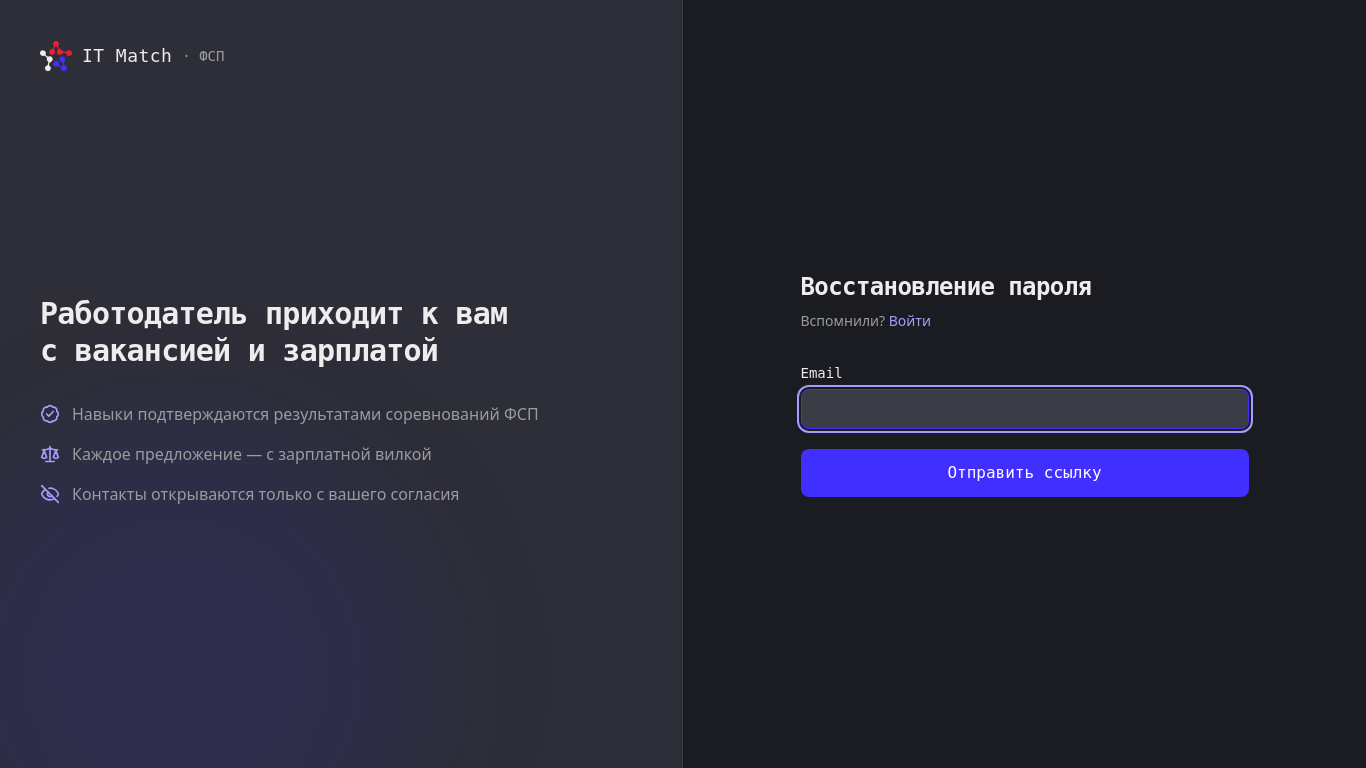
Test case: password recovery › answers the same way for any address
The width and height of the screenshot is (1366, 768).
Type "who@example.org" into the field labelled "Email" at (1024, 409), box [800,389,1248,429]
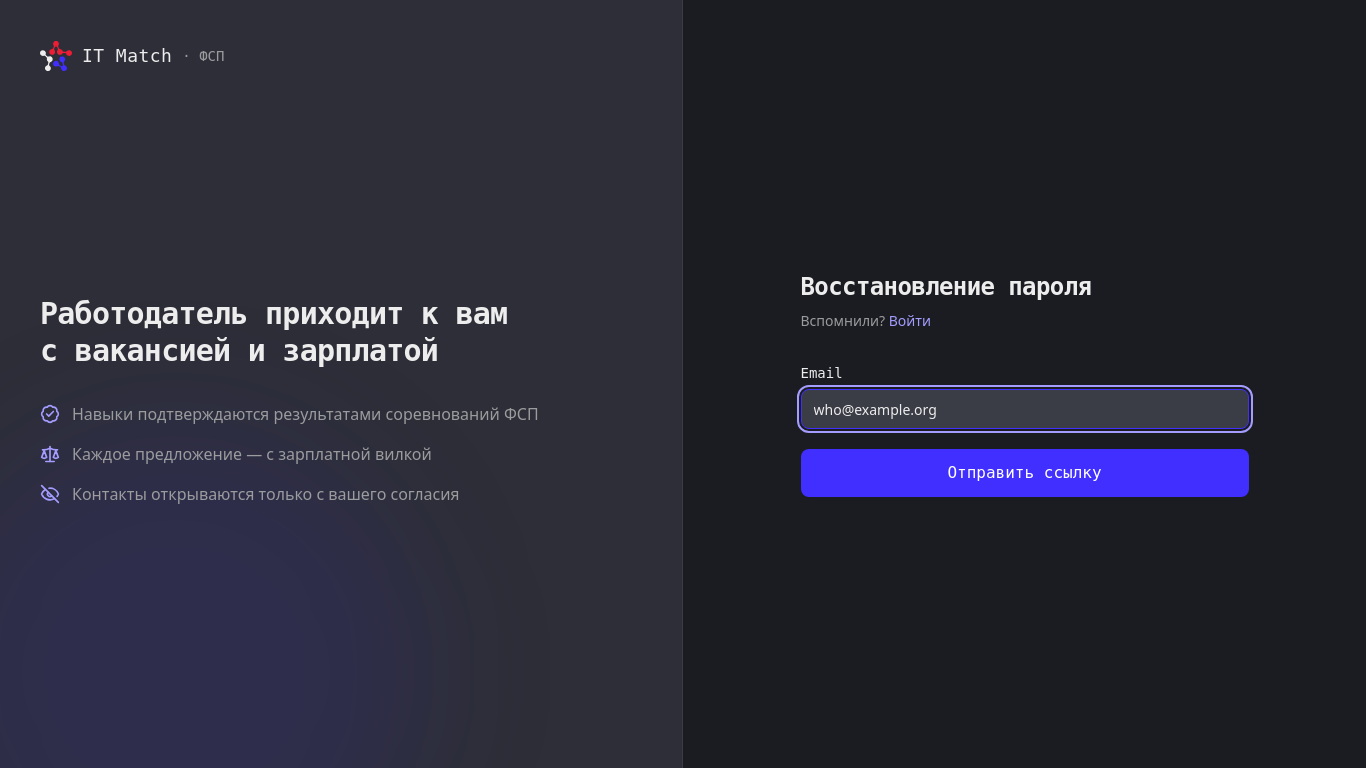
Click the button "Отправить ссылку" at (1024, 473), box [800,449,1248,497]
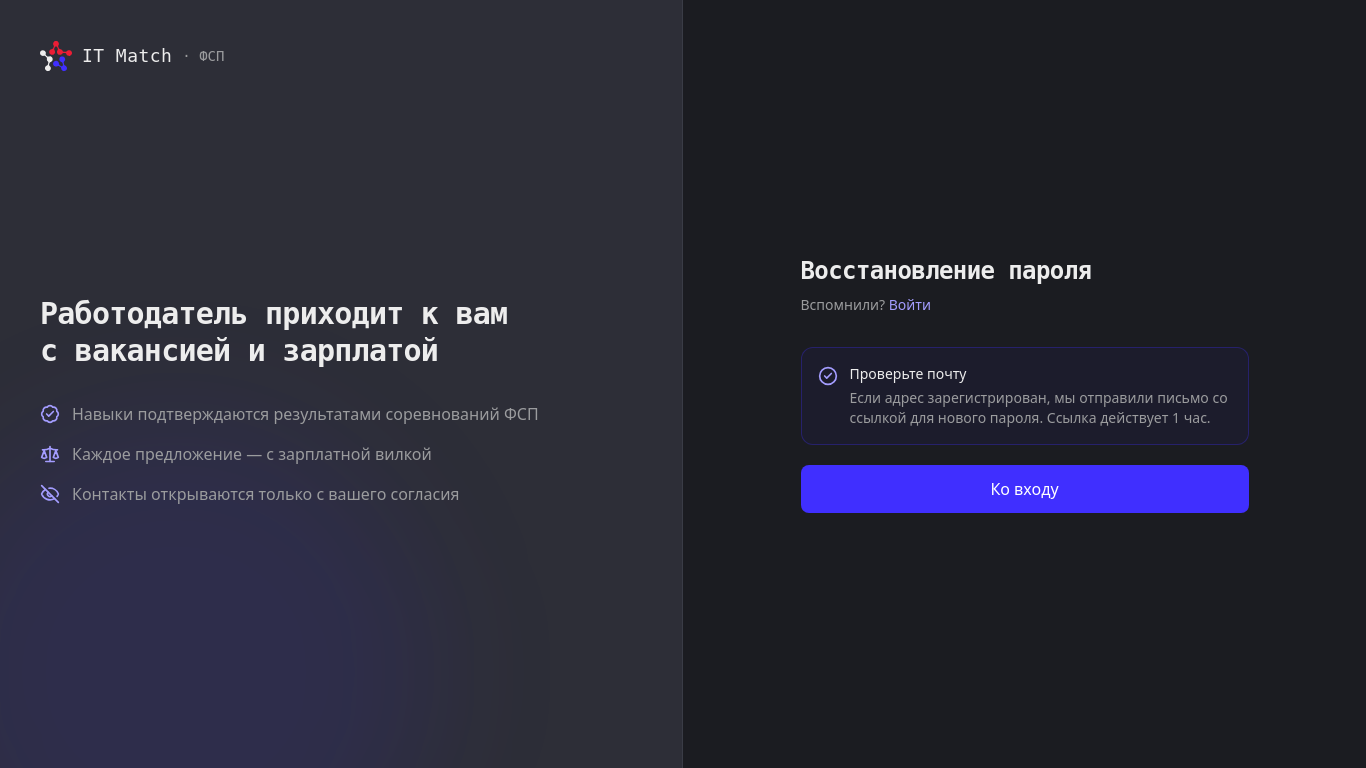
Now the text "Если адрес зарегистрирован" is shown, box [850,388,1228,427]
